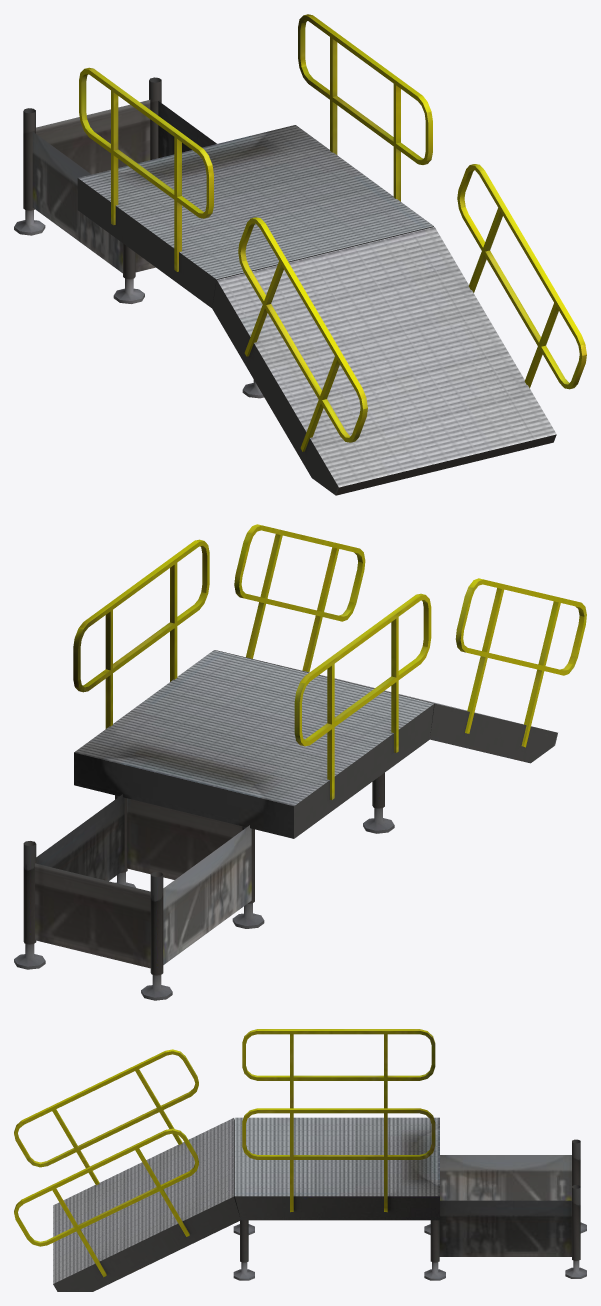
Rendered from hdu_part_2_dust_mitigation_module.dae.
3 views of the same model, one above another, from view 1: azimuth 30°, elevation 25°; view 2: azimuth 150°, elevation 25°; view 3: azimuth 270°, elevation 25° (orthographic). The views are drawn at different scales.
Parts seen in each view (by area): view 1: HDU_lowRez_part2.001; view 2: HDU_lowRez_part2.001; view 3: HDU_lowRez_part2.001.
Part boxes in pixels (x1,y1,x2,y2): HDU_lowRez_part2.001: [14, 14, 586, 495]; HDU_lowRez_part2.001: [14, 524, 586, 1000]; HDU_lowRez_part2.001: [14, 1029, 586, 1291].
Size of the model in its own units: 99.09 by 296 by 105.
1 material, 1 textured.
